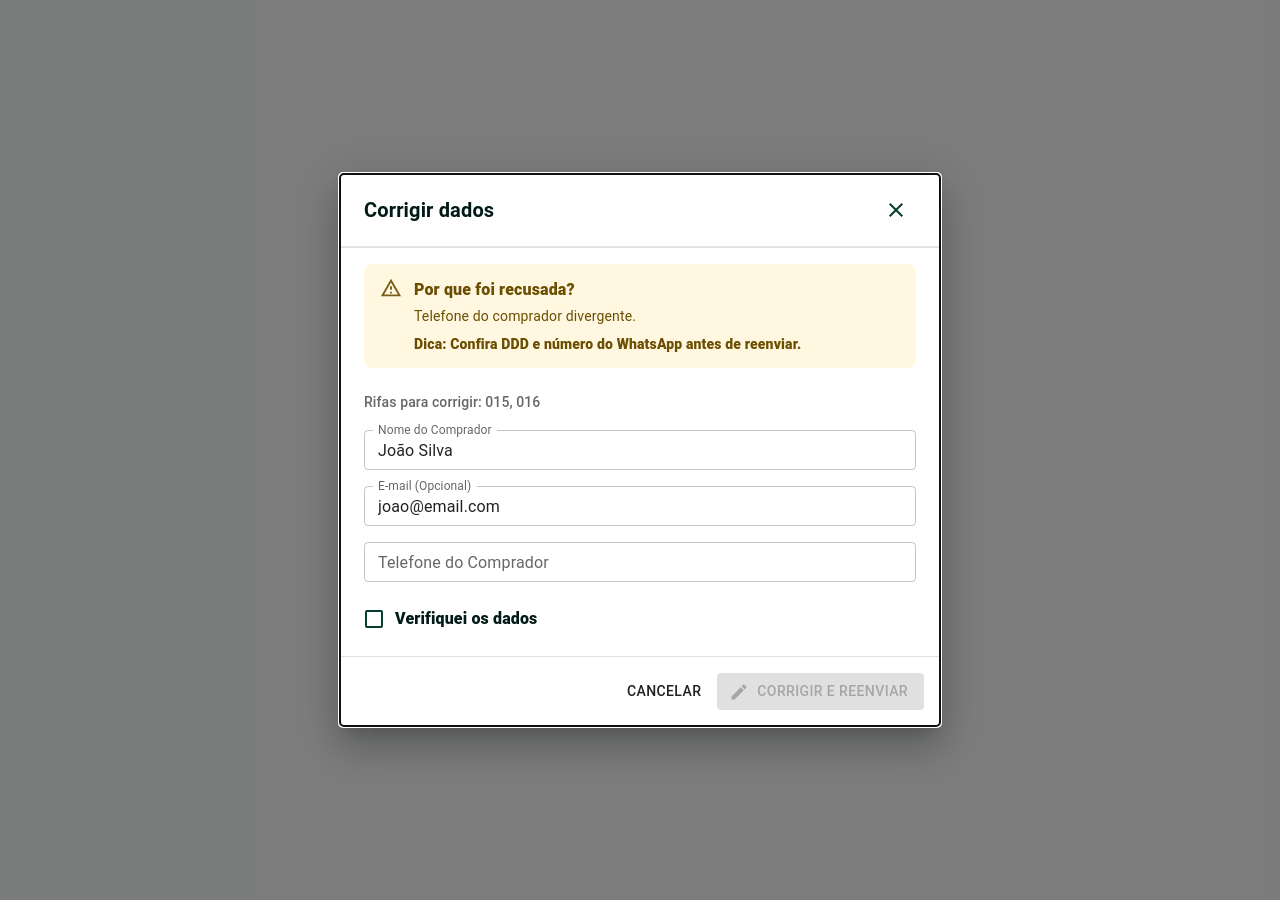
Test: Componente: ModalCorrecaoRecusa › Deve aplicar a formatação do telefone enquanto o usuário digita
Step 1. Type "21912345678" into the field labelled "Telefone do Comprador" → {"x": 640, "y": 562}, box [364,542,916,582]
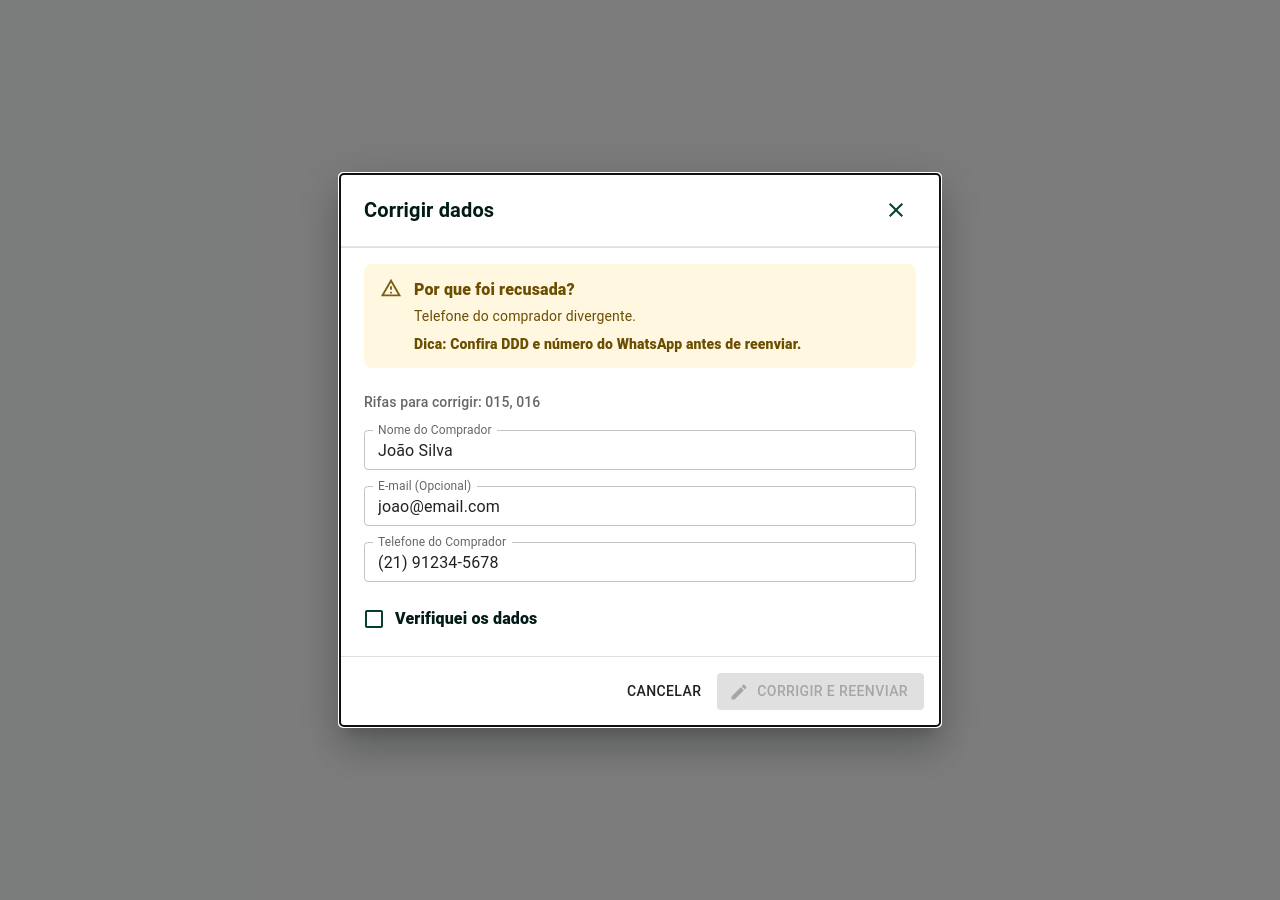
Check: the field labelled "Telefone do Comprador" holds "(21) 91234-5678", box [364,542,916,582]
